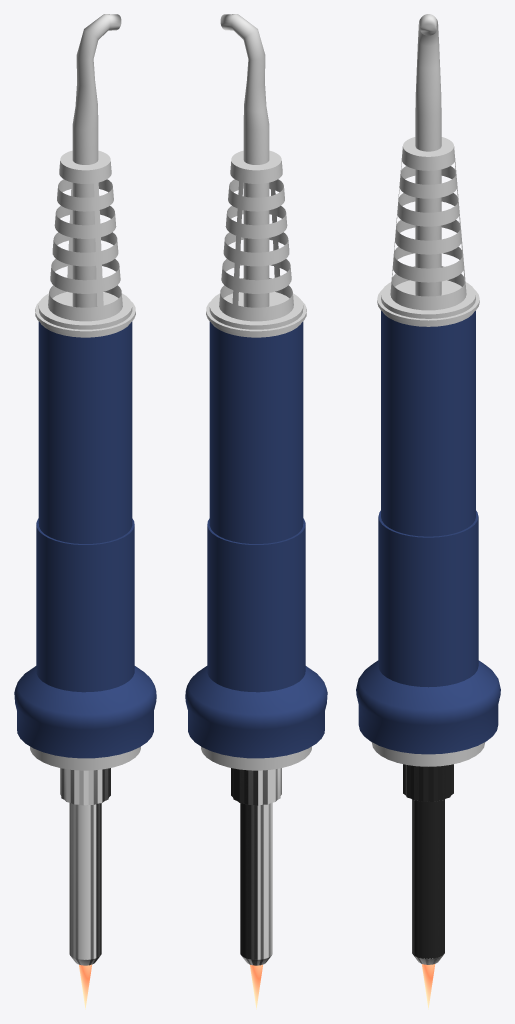
File: solder.fbx
3 views of the same model, side by side, from view 1: azimuth 30°, elevation 25°; view 2: azimuth 150°, elevation 25°; view 3: azimuth 270°, elevation 25° (orthographic).
Parts seen in each view (by area): view 1: grip, Cylinder, socket, longPipe, wire, Cylinder.001, logoMet; view 2: grip, Cylinder, socket, wire, longPipe, Cylinder.001, logoMet; view 3: grip, Cylinder, socket, longPipe, wire, Cylinder.001, logoMet.
Boxes of the visible parts, x1=… form: grip: x1=14, y1=518, x2=156, y2=758; Cylinder: x1=38, y1=321, x2=132, y2=543; socket: x1=35, y1=150, x2=135, y2=337; longPipe: x1=69, y1=802, x2=101, y2=965; wire: x1=72, y1=14, x2=121, y2=307; Cylinder.001: x1=60, y1=768, x2=110, y2=805; logoMet: x1=30, y1=746, x2=140, y2=770; grip: x1=185, y1=518, x2=327, y2=758; Cylinder: x1=209, y1=321, x2=303, y2=543; socket: x1=206, y1=150, x2=306, y2=337; wire: x1=220, y1=14, x2=269, y2=307; longPipe: x1=240, y1=802, x2=272, y2=965; Cylinder.001: x1=231, y1=768, x2=281, y2=805; logoMet: x1=201, y1=746, x2=311, y2=770; grip: x1=356, y1=510, x2=500, y2=754; Cylinder: x1=381, y1=311, x2=475, y2=536; socket: x1=377, y1=137, x2=479, y2=326; longPipe: x1=412, y1=799, x2=444, y2=964; wire: x1=415, y1=14, x2=441, y2=296; Cylinder.001: x1=403, y1=764, x2=453, y2=801; logoMet: x1=371, y1=742, x2=485, y2=766.
Size of the model in its own units: 7.43 by 56.91 by 7.43.
7 materials, 2 textured.
